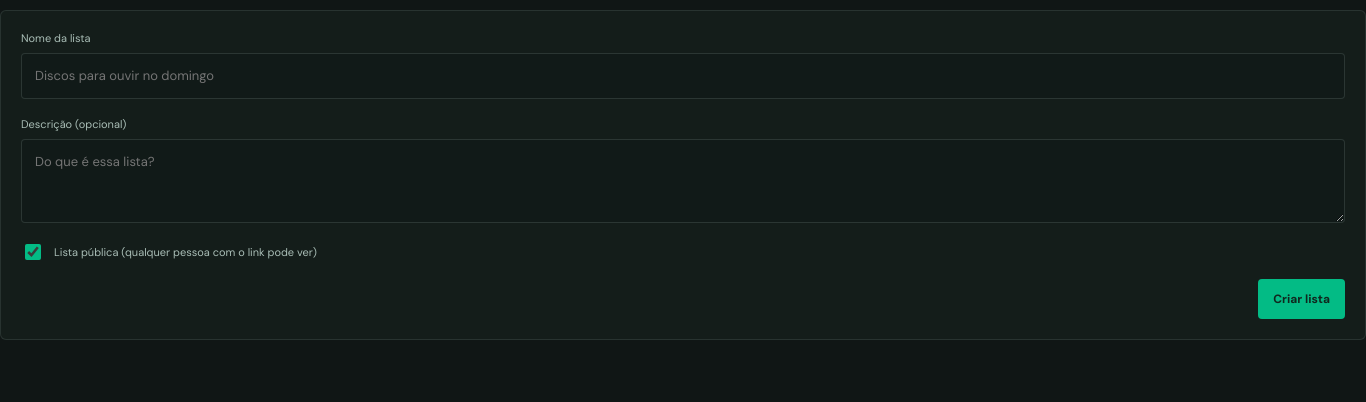
Test: ListForm › shows a retry message when saving fails
Type "Falha" into the field labelled "Nome da lista".
click(683, 76); type("Falha")  # box x1=21 y1=53 x2=1345 y2=98
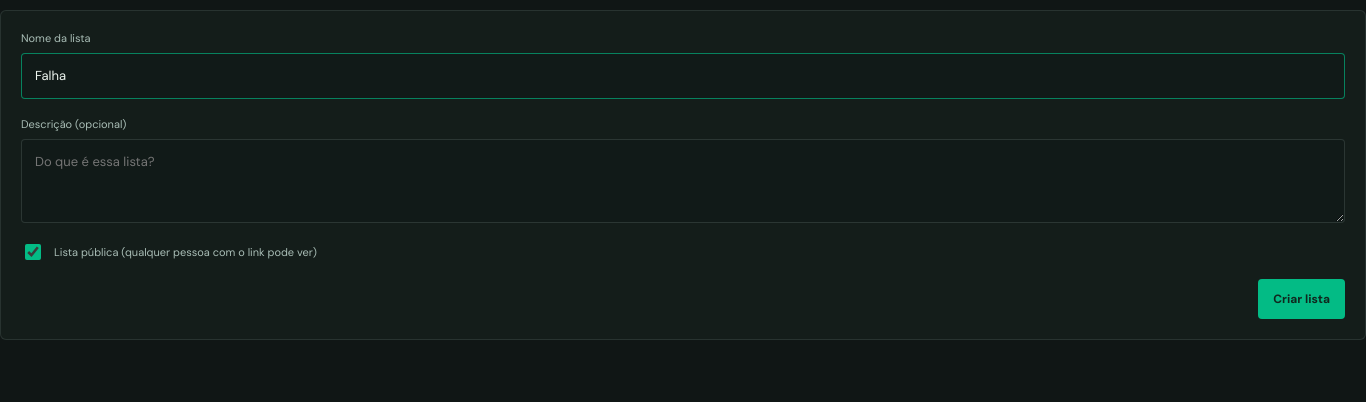
Click the button "Criar lista".
click(1302, 299)  # box x1=1258 y1=279 x2=1345 y2=319
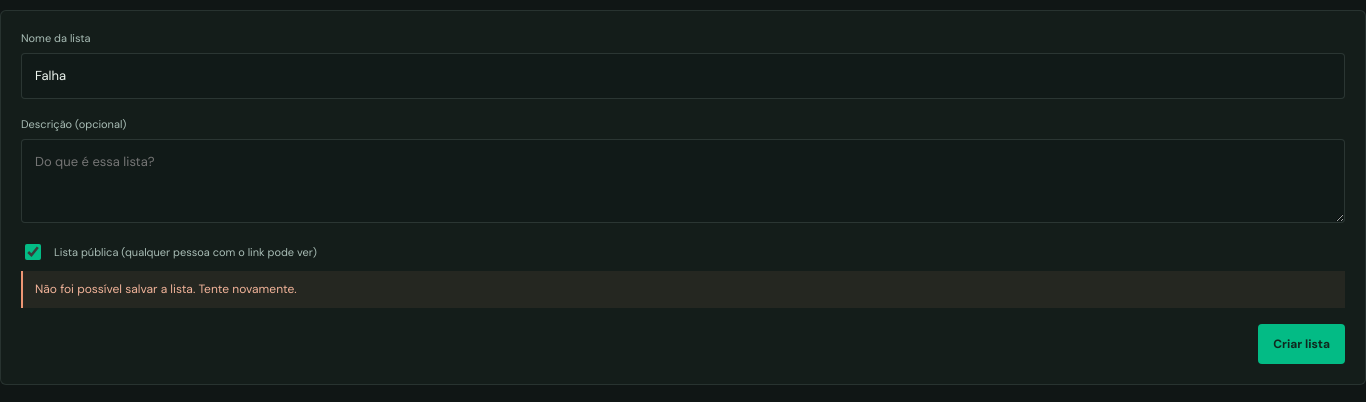
Expected: the button "Criar lista" is enabled, x1=1258 y1=324 x2=1345 y2=364
Result: the message reads "Não foi possível salvar a lista. Tente novamente." at x1=35 y1=281 x2=297 y2=297
